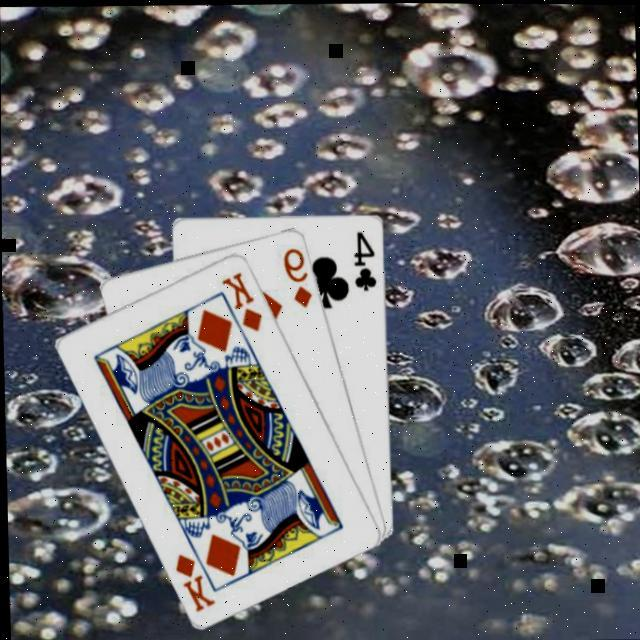4C: (349, 224, 378, 290)
9D: (278, 240, 314, 308)
KD: (216, 265, 263, 332), (170, 546, 216, 612)
